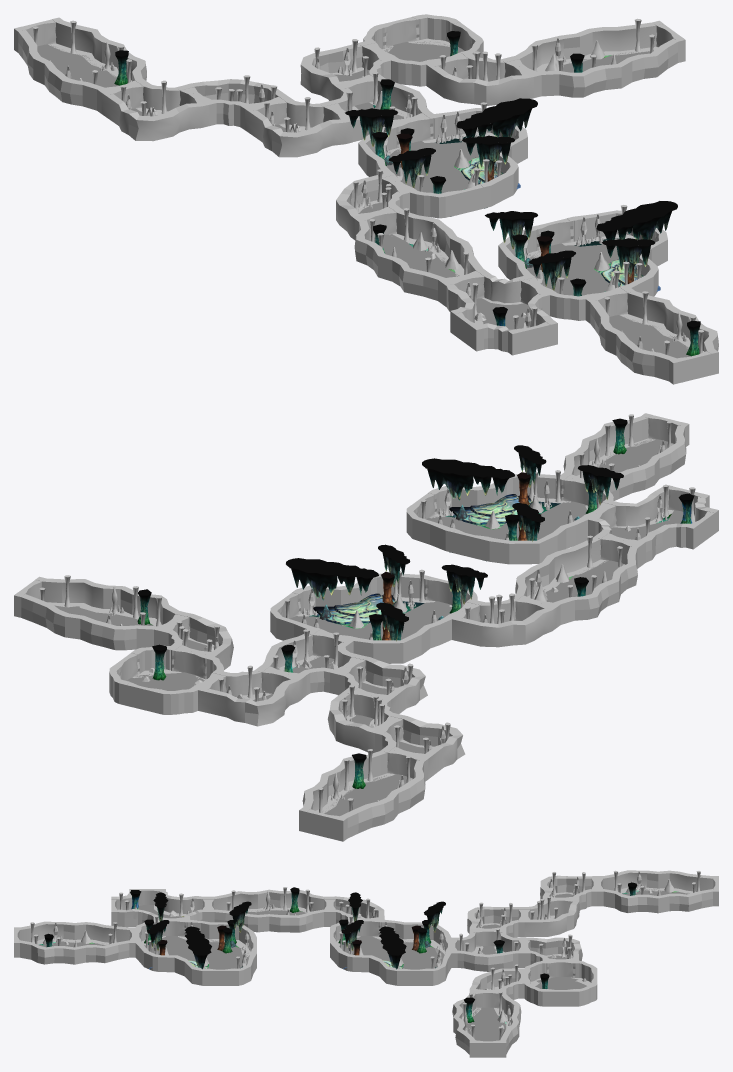
3 renders of one model, top to bottom at view 1: azimuth 30°, elevation 25°; view 2: azimuth 150°, elevation 25°; view 3: azimuth 270°, elevation 25°, orthographic. The views are drawn at different scales.
Parts seen in each view (by area): view 1: Dan1 (×12), Dun_061_Room_003_Object02 (×2), Dun_061_Room_003_wall (×2), Dun_011_Door_002 (×10), Dun_061_Room_007_Nav (×2), Dun_061_Road_002_Nav (×3), Dun_061_StartRoom_001_wall, Dun_061_StartRoom_001_Nav, Dun_061_RoadX_001_Nav; view 2: Dan1 (×12), Dun_061_Room_003_wall (×2), Dun_061_Room_003_Object02 (×2), Dun_061_Road_002_Nav (×4), Dun_011_Door_002 (×5), Dun_061_Room_007_Nav (×2), Dun_061_Room_003_Object01 (×2), Dun_061_StartRoom_001_wall, Dun_061_StartRoom_001_Nav; view 3: Dan1 (×12), Dun_061_Room_003_wall (×2), Dun_011_Door_002 (×11), Dun_061_Room_003_Object02 (×2), Dun_061_Room_007_Nav (×2), Dun_061_StartRoom_001_wall, Dun_061_Road_002_Nav, Dun_061_StartRoom_001_Nav.
Boxes of the visible parts, x1,y1,x2,y2 form: Dan1 (×12): (14, 17, 718, 384); Dun_061_Room_003_Object02 (×2): (345, 98, 677, 290); Dun_061_Room_003_wall (×2): (358, 108, 667, 320); Dun_011_Door_002 (×10): (15, 15, 717, 382); Dun_061_Room_007_Nav (×2): (386, 135, 618, 295); Dun_061_Road_002_Nav (×3): (37, 44, 690, 358); Dun_061_StartRoom_001_wall: (363, 14, 483, 86); Dun_061_StartRoom_001_Nav: (384, 41, 464, 61); Dun_061_RoadX_001_Nav: (472, 298, 528, 329); Dan1 (×12): (14, 413, 718, 841); Dun_061_Room_003_wall (×2): (270, 474, 613, 663); Dun_061_Room_003_Object02 (×2): (286, 445, 623, 641); Dun_061_Road_002_Nav (×4): (54, 439, 673, 816); Dun_011_Door_002 (×5): (120, 527, 640, 839); Dun_061_Room_007_Nav (×2): (290, 501, 587, 639); Dun_061_Room_003_Object01 (×2): (313, 494, 531, 626); Dun_061_StartRoom_001_wall: (109, 645, 223, 714); Dun_061_StartRoom_001_Nav: (127, 672, 204, 690); Dan1 (×12): (14, 870, 718, 1057); Dun_061_Room_003_wall (×2): (135, 919, 451, 985); Dun_011_Door_002 (×11): (130, 889, 578, 1057); Dun_061_Room_003_Object02 (×2): (147, 892, 445, 969); Dun_061_Room_007_Nav (×2): (144, 936, 444, 969); Dun_061_StartRoom_001_wall: (524, 961, 597, 1006); Dun_061_Road_002_Nav: (467, 1007, 506, 1041); Dun_061_StartRoom_001_Nav: (535, 977, 586, 989).
Bounding box in the file's own units: 50.56 × 5.03 × 87.
